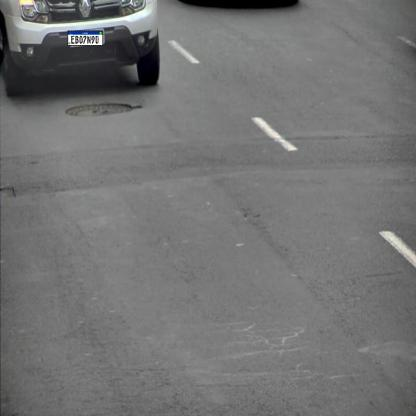PlacaM: (68, 30, 103, 46)
